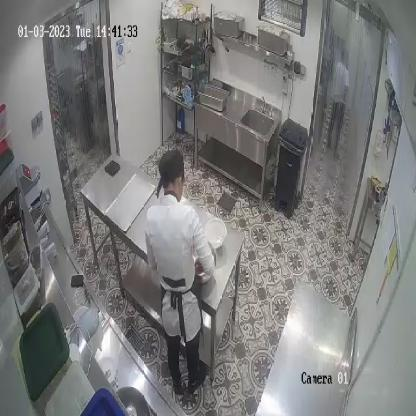apron: (153, 250, 201, 331)
